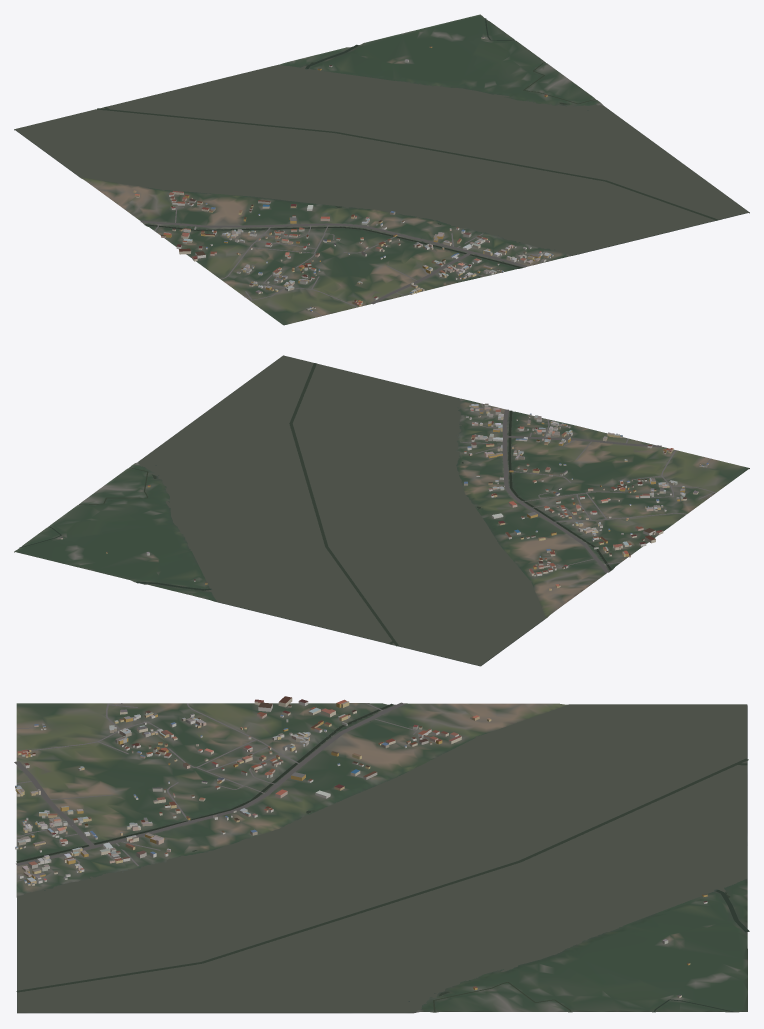
The picture shows the model from 3 angles, top to bottom: view 1: azimuth 30°, elevation 25°; view 2: azimuth 150°, elevation 25°; view 3: azimuth 270°, elevation 25°; orthographic projection. The views are drawn at different scales.
Parts seen in each view (by area): view 1: water, ground, buildings, roads; view 2: water, ground, buildings, roads; view 3: water, ground, buildings, roads.
Part boxes in pixels (x1,y1,x2,y2): water: (15,18,748,268); ground: (14,14,749,325); buildings: (133,36,553,312); roads: (140,207,550,315); water: (19,355,611,665); ground: (14,356,749,666); buildings: (60,403,708,590); roads: (460,403,715,572); water: (16,703,749,1012); ground: (16,703,747,1013); buildings: (15,696,707,997); roads: (14,702,416,881).
Bounding box in the file's own units: 1416 × 14.62 × 1410.
